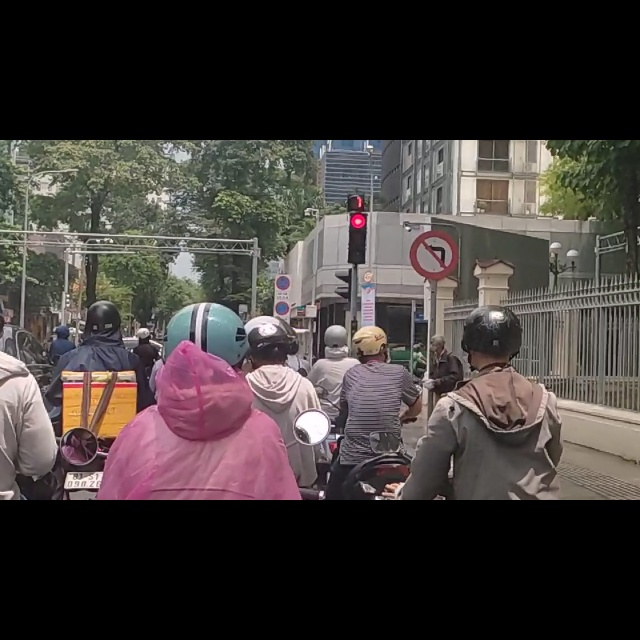bien_cam: (409, 156, 458, 250), (275, 282, 291, 312), (275, 239, 291, 268)
